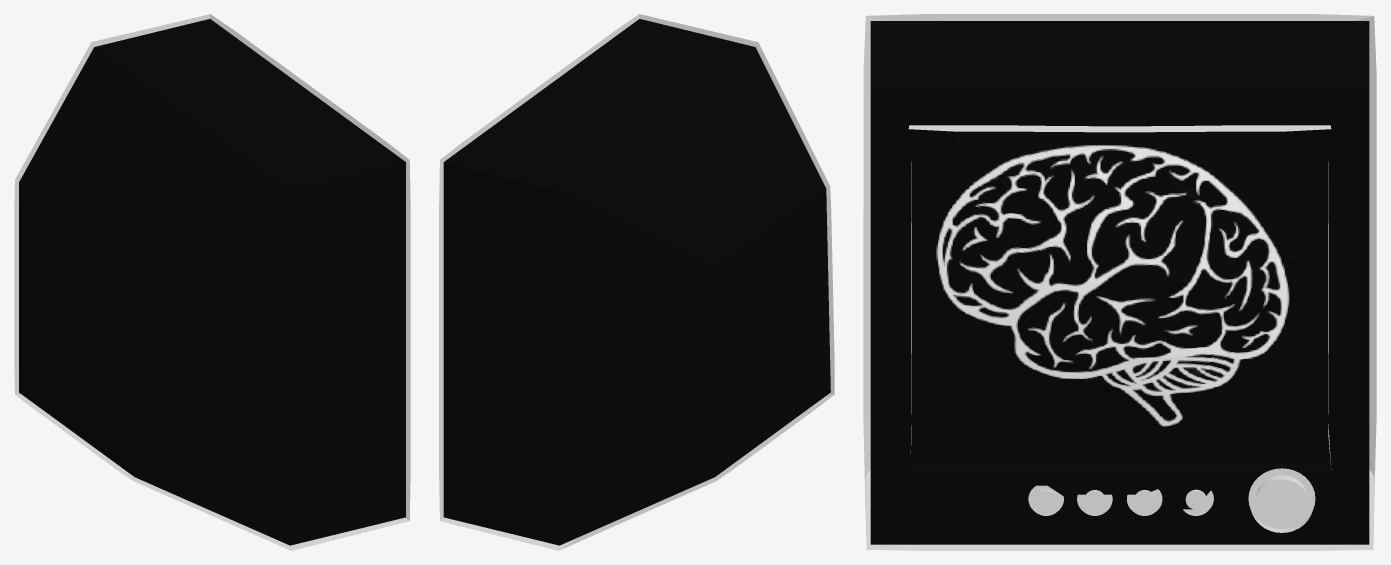
The picture shows the model from 3 angles, left to right: view 1: azimuth 30°, elevation 25°; view 2: azimuth 150°, elevation 25°; view 3: azimuth 270°, elevation 25°; orthographic projection. The views are drawn at different scales.
Visible parts, largest first — view 1: Object_2, Object_3; view 2: Object_2, Object_3; view 3: Object_2, Object_3.
Boxes of the visible parts, x1=… form: Object_2: x1=19, y1=19, x2=405, y2=545; Object_3: x1=14, y1=14, x2=410, y2=550; Object_2: x1=443, y1=19, x2=830, y2=545; Object_3: x1=439, y1=14, x2=834, y2=550; Object_2: x1=870, y1=21, x2=1369, y2=544; Object_3: x1=863, y1=14, x2=1376, y2=550.
Size of what is drawn, in the model's own units: 1.29 by 1.85 by 1.85.
2 materials, 1 textured.
